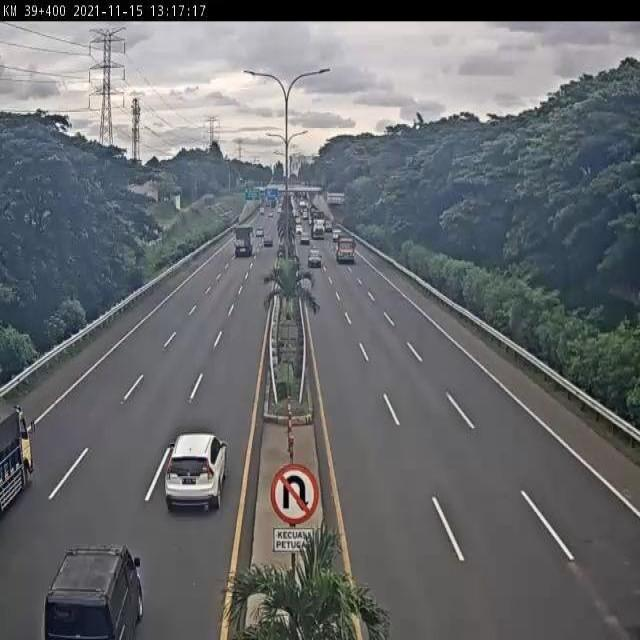Car: (148, 414, 246, 537), (306, 248, 328, 275), (298, 228, 314, 250), (261, 233, 275, 254)
Truck: (0, 397, 45, 516), (334, 234, 365, 268), (231, 223, 254, 260), (308, 210, 329, 239)
Van: (33, 522, 143, 640)
